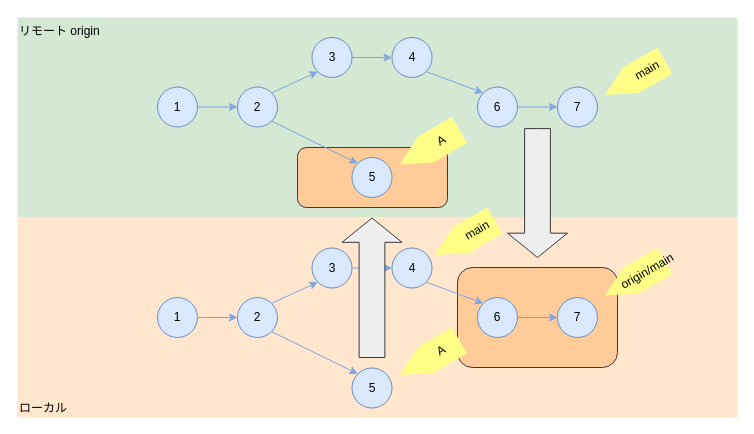
The diagram is 754 pixels wide and 434 high, and some of its shapes have lost their labels. The shapes that lost their labels are listed below. From the top down, each one's centre as x and y in pixels, then its label:
point 537,193: git fetch
point 371,287: git push
